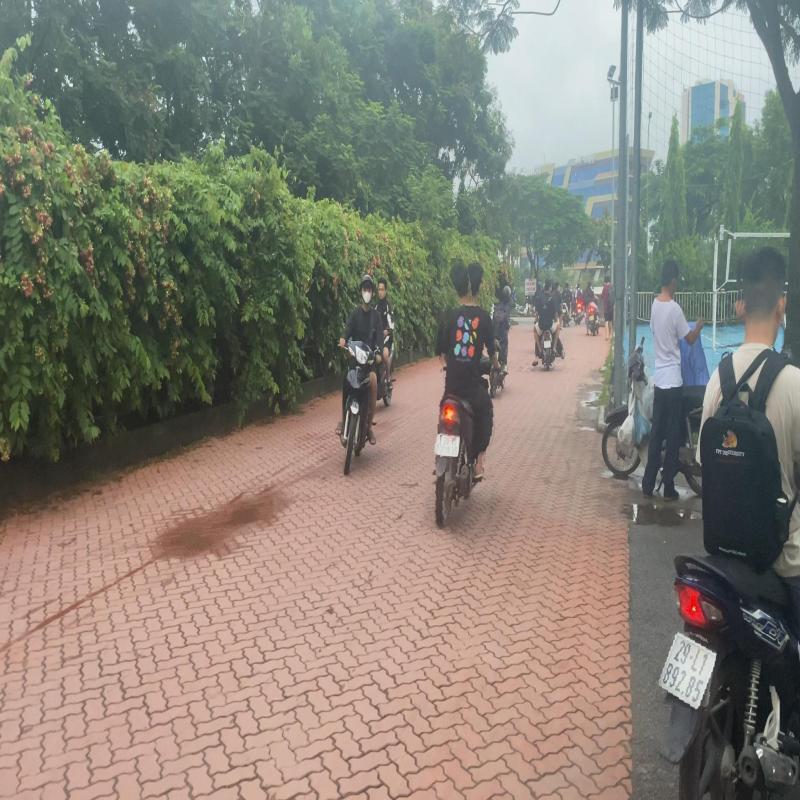licenseplate: (657, 630, 716, 709), (440, 435, 460, 458)
motorcyclist: (655, 238, 800, 800), (429, 259, 508, 534)
nohelmet: (738, 246, 788, 347), (450, 262, 472, 304)
